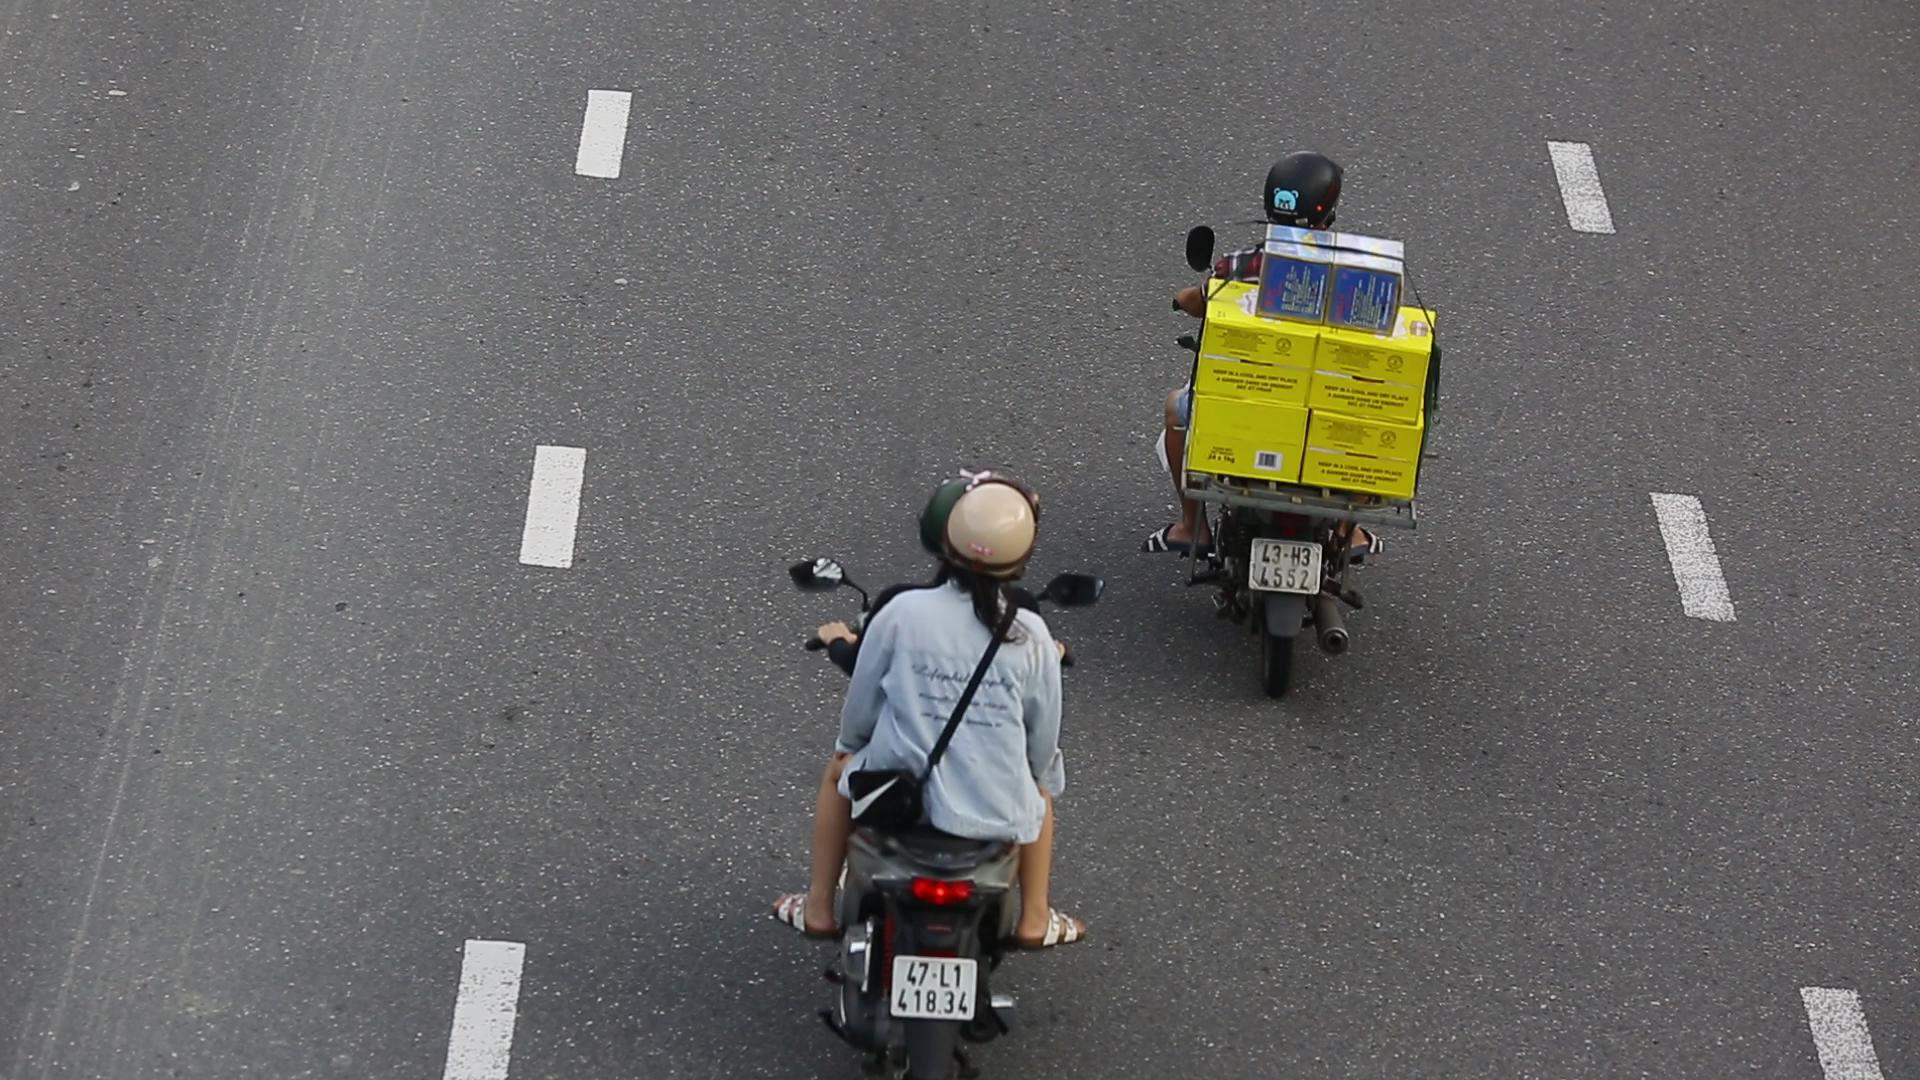motobike: (764, 454, 1071, 1080), (1168, 124, 1451, 736)
